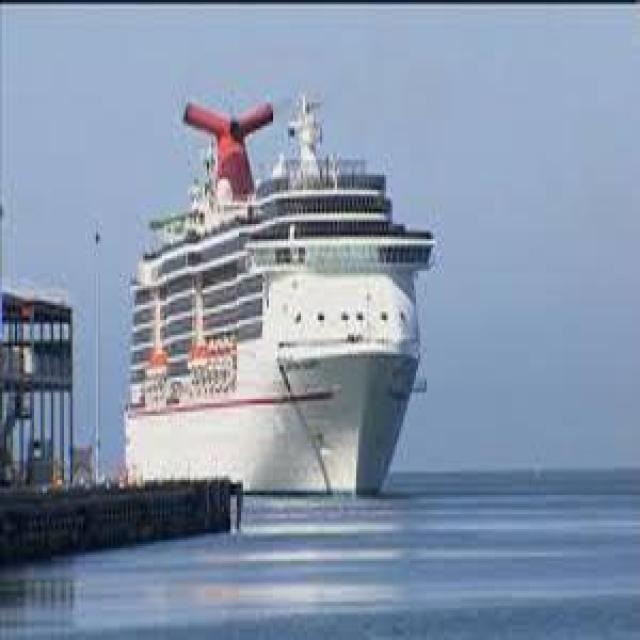passenger ship: (126, 96, 439, 502)
